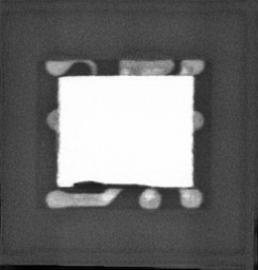DIE_BROKEN: (71, 179, 153, 190)
